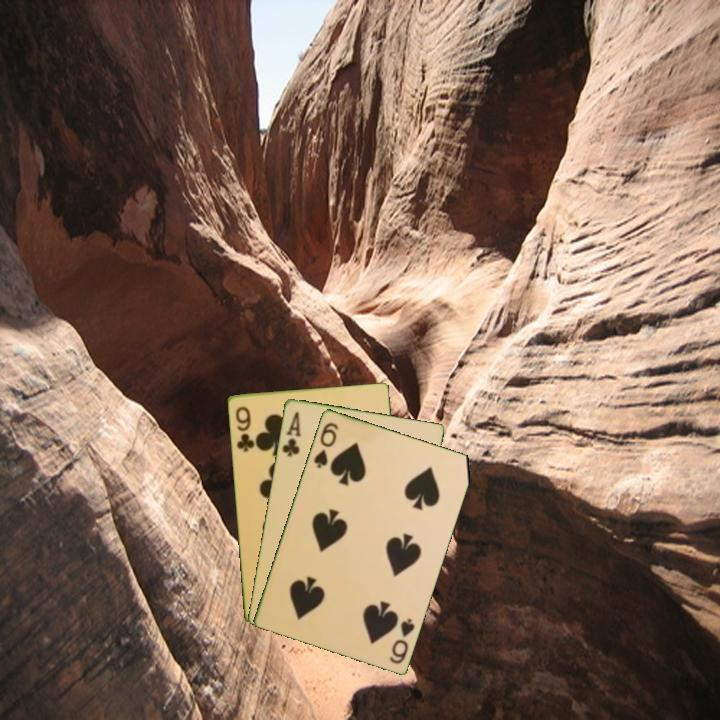6s: (310, 418, 341, 471), (386, 614, 417, 666)
9c: (232, 403, 257, 454)
Ac: (278, 408, 304, 459)
